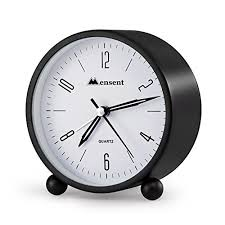alarm_clock: (18, 25, 200, 199), (18, 25, 196, 199), (23, 25, 200, 199), (23, 28, 200, 199)
